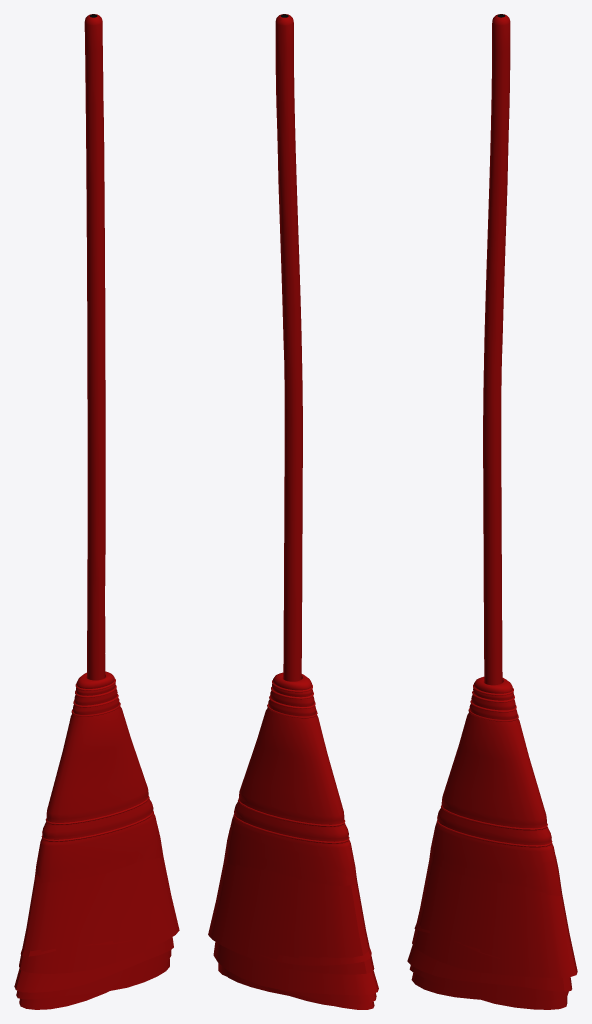
The model's file is SM_Broom.fbx.
3 views of the same model, side by side, from view 1: azimuth 30°, elevation 25°; view 2: azimuth 150°, elevation 25°; view 3: azimuth 330°, elevation 25° (orthographic).
Visible parts, largest first — view 1: SM_Broom; view 2: SM_Broom; view 3: SM_Broom.
Boxes of the visible parts, box(x1,y1,x2,y2) form: SM_Broom: box(14, 14, 179, 1009); SM_Broom: box(208, 14, 378, 1009); SM_Broom: box(407, 14, 577, 1009).
Size of the model in its own units: 29.7 by 9.59 by 167.
